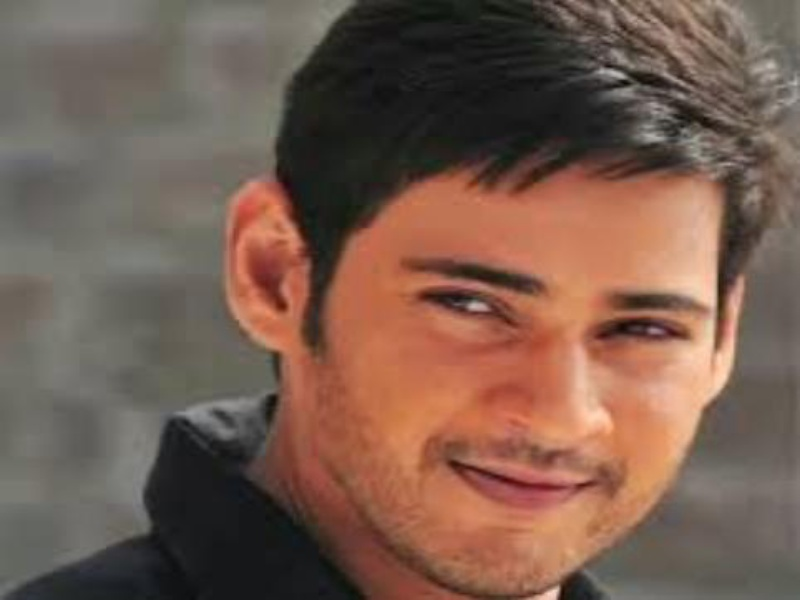TsisyArotava: (214, 45, 754, 600)
